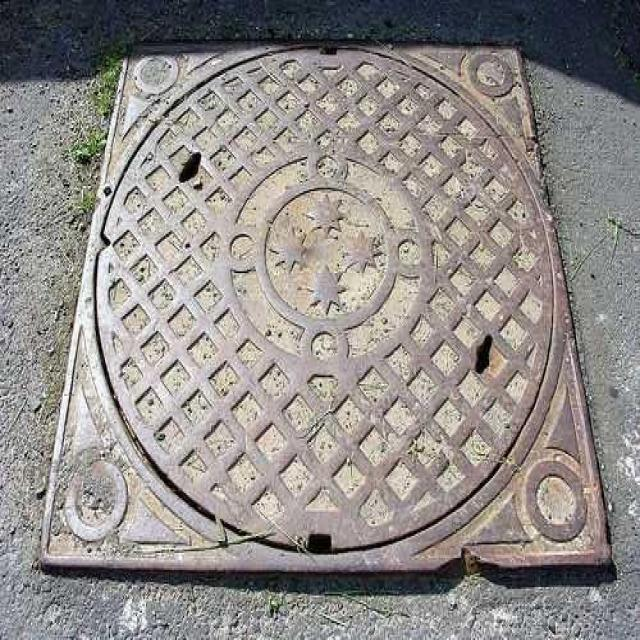manhole: (42, 47, 610, 572)
